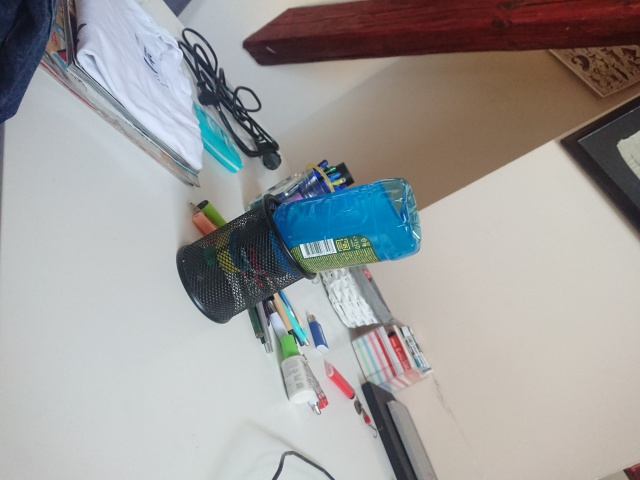Vindi Iso Sport Forest Strawberries 500mL: (200, 175, 424, 278)
